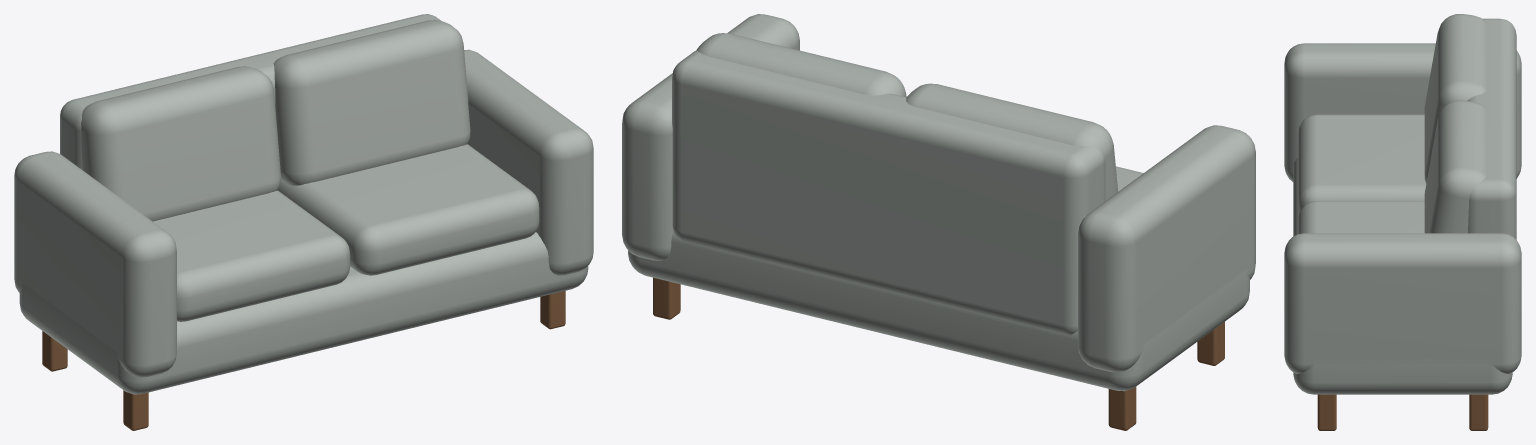
File: sofa_tailored_v1.glb
3 views of the same model, side by side, from view 1: azimuth 30°, elevation 25°; view 2: azimuth 150°, elevation 25°; view 3: azimuth 270°, elevation 25° (orthographic). The views are drawn at different scales.
Parts seen in each view (by area): view 1: Upholstered base, Soft back cushion.001, Padded arm, Soft back cushion, Separate seat cushion.001, Separate seat cushion, Padded arm.001, Back frame, Oak leg, Oak leg.002, Oak leg.001; view 2: Back frame, Padded arm, Upholstered base, Padded arm.001, Soft back cushion, Soft back cushion.001, Oak leg.001, Oak leg.003, Oak leg; view 3: Padded arm.001, Padded arm, Separate seat cushion, Back frame, Upholstered base, Soft back cushion.001, Soft back cushion, Separate seat cushion.001, Oak leg.002, Oak leg.003.
Part boxes in pixels (left/top/right/bottom): Upholstered base: left=19, top=232, right=588, bottom=394; Soft back cushion.001: left=273, top=20, right=470, bottom=185; Padded arm: left=14, top=151, right=176, bottom=377; Soft back cushion: left=81, top=66, right=280, bottom=221; Separate seat cushion.001: left=278, top=144, right=539, bottom=275; Separate seat cushion: left=153, top=190, right=350, bottom=321; Padded arm.001: left=464, top=49, right=593, bottom=275; Back frame: left=60, top=14, right=441, bottom=169; Oak leg: left=123, top=390, right=148, bottom=430; Oak leg.002: left=540, top=290, right=565, bottom=329; Oak leg.001: left=42, top=331, right=67, bottom=371; Back frame: left=672, top=50, right=1105, bottom=334; Padded arm: left=1078, top=125, right=1255, bottom=372; Upholstered base: left=628, top=232, right=1249, bottom=391; Padded arm.001: left=622, top=14, right=799, bottom=260; Soft back cushion: left=906, top=83, right=1117, bottom=200; Soft back cushion.001: left=696, top=33, right=906, bottom=97; Oak leg.001: left=1108, top=387, right=1136, bottom=430; Oak leg.003: left=653, top=277, right=680, bottom=319; Oak leg: left=1197, top=322, right=1224, bottom=365; Padded arm.001: left=1284, top=233, right=1521, bottom=373; Padded arm: left=1284, top=43, right=1521, bottom=181; Separate seat cushion: left=1298, top=114, right=1426, bottom=215; Back frame: left=1467, top=18, right=1516, bottom=239; Upholstered base: left=1293, top=157, right=1512, bottom=394; Soft back cushion.001: left=1424, top=100, right=1486, bottom=233; Soft back cushion: left=1424, top=14, right=1486, bottom=182; Separate seat cushion.001: left=1298, top=201, right=1424, bottom=233; Oak leg.002: left=1317, top=394, right=1336, bottom=430; Oak leg.003: left=1469, top=394, right=1488, bottom=430.
Size of the model in its own units: 2 by 1.05 by 0.94.
